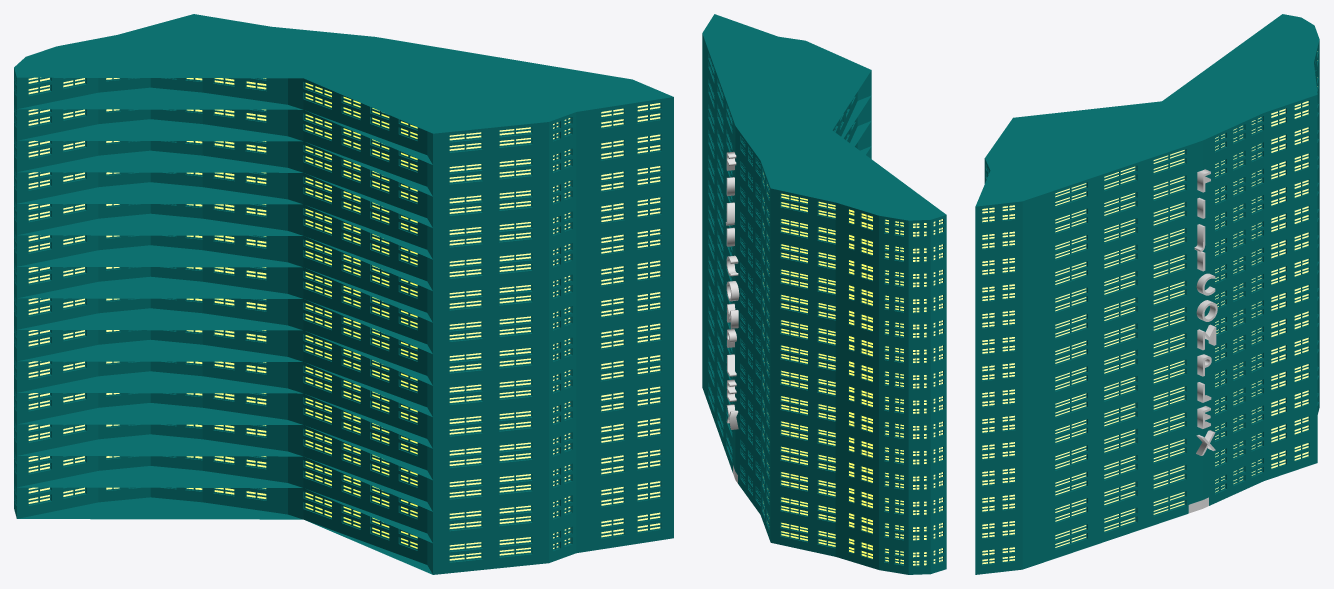
File: fiji_complex.fbx
3 renders of one model, left to right at view 1: azimuth 30°, elevation 25°; view 2: azimuth 150°, elevation 25°; view 3: azimuth 270°, elevation 25°, orthographic. The views are drawn at different scales.
Parts seen in each view (by area): view 1: Vert; view 2: Vert; view 3: Vert.
Part boxes in pixels (left/top/right/bottom): Vert: left=14, top=14, right=673, bottom=574; Vert: left=702, top=14, right=946, bottom=574; Vert: left=975, top=14, right=1319, bottom=574.
Bounding box in the file's own units: 785 × 700 × 593.
